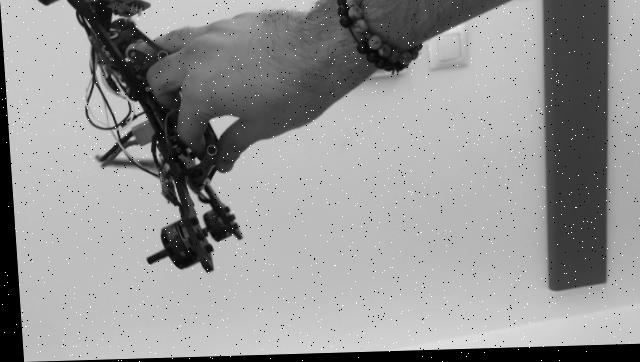drone: (27, 0, 256, 277)
